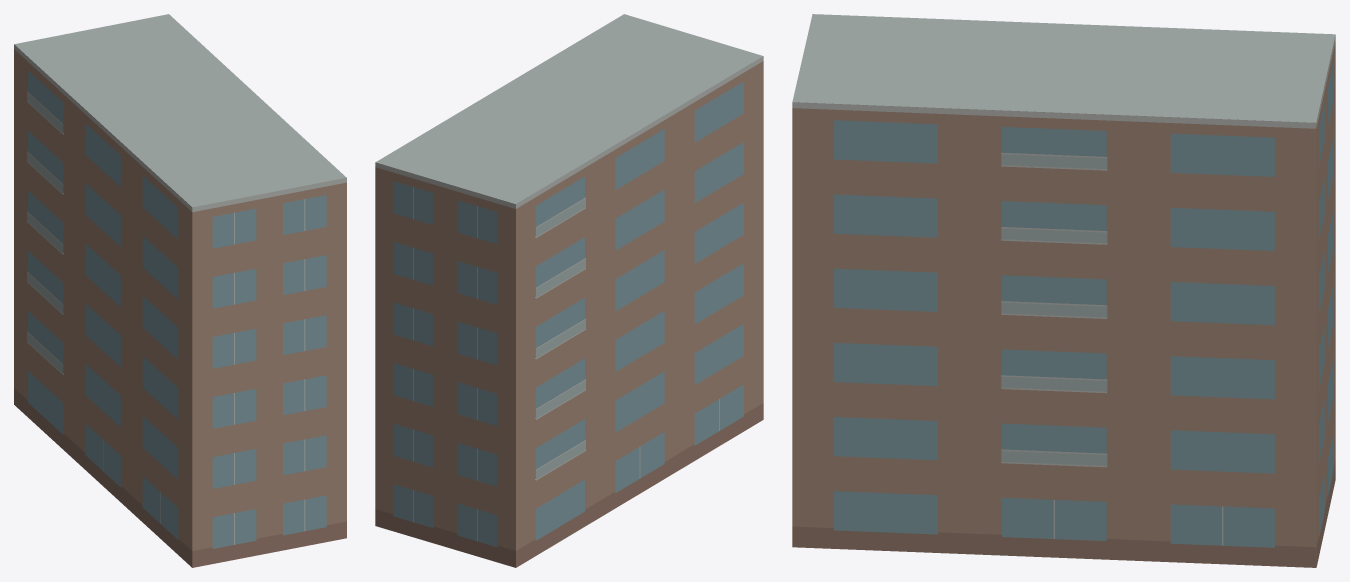
Rendered from survey-upis-32927730.glb.
3 views of the same model, side by side, from view 1: azimuth 30°, elevation 25°; view 2: azimuth 150°, elevation 25°; view 3: azimuth 270°, elevation 25° (orthographic). The views are drawn at different scales.
Visible parts, largest first — view 1: survey-upis-32927730.tmp; view 2: survey-upis-32927730.tmp; view 3: survey-upis-32927730.tmp.
Part boxes in pixels (bbox=[...]): survey-upis-32927730.tmp: bbox=[14, 14, 346, 567]; survey-upis-32927730.tmp: bbox=[375, 14, 763, 567]; survey-upis-32927730.tmp: bbox=[792, 14, 1335, 567].
Size of the model in its own units: 9.61 by 18.3 by 20.26.
